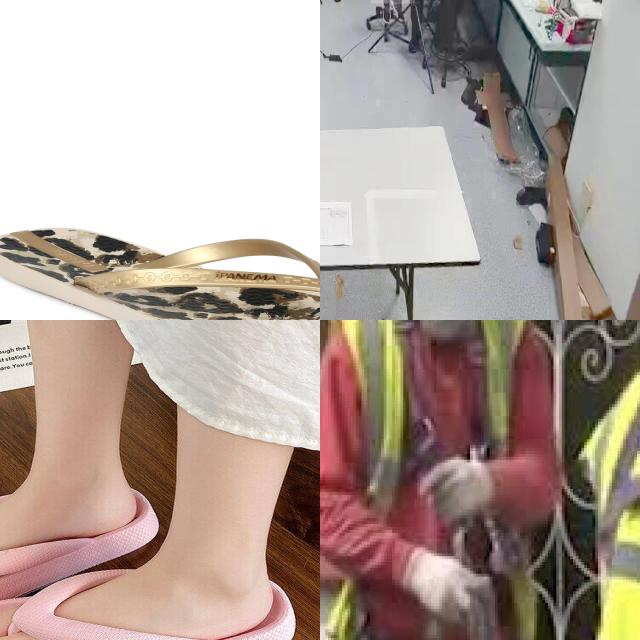Sandals: (0, 471, 314, 640), (0, 224, 320, 320)
shoes: (389, 0, 407, 24), (379, 0, 392, 27)
